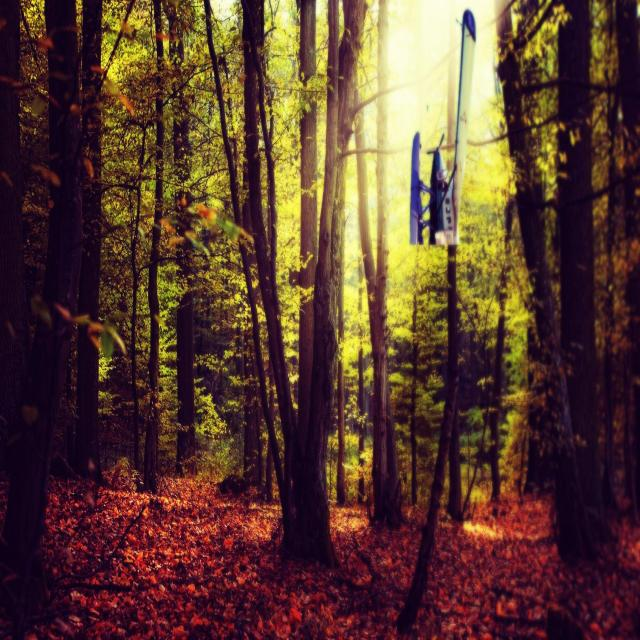airplane: (409, 9, 476, 246)
